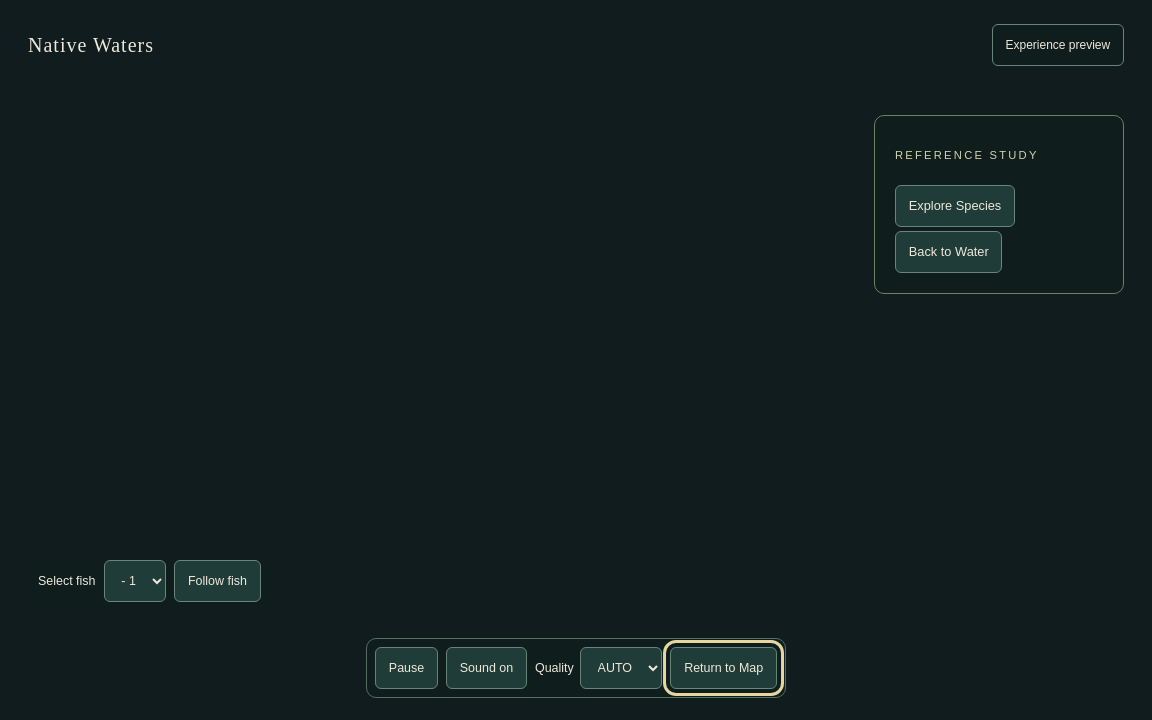
ExperienceUI › returns to the preview control if graphics recovery leaves Enter disabled
This screenshot has width=1152, height=720.
Click the button "Return to Map" at (724, 668), box [670, 647, 777, 689]
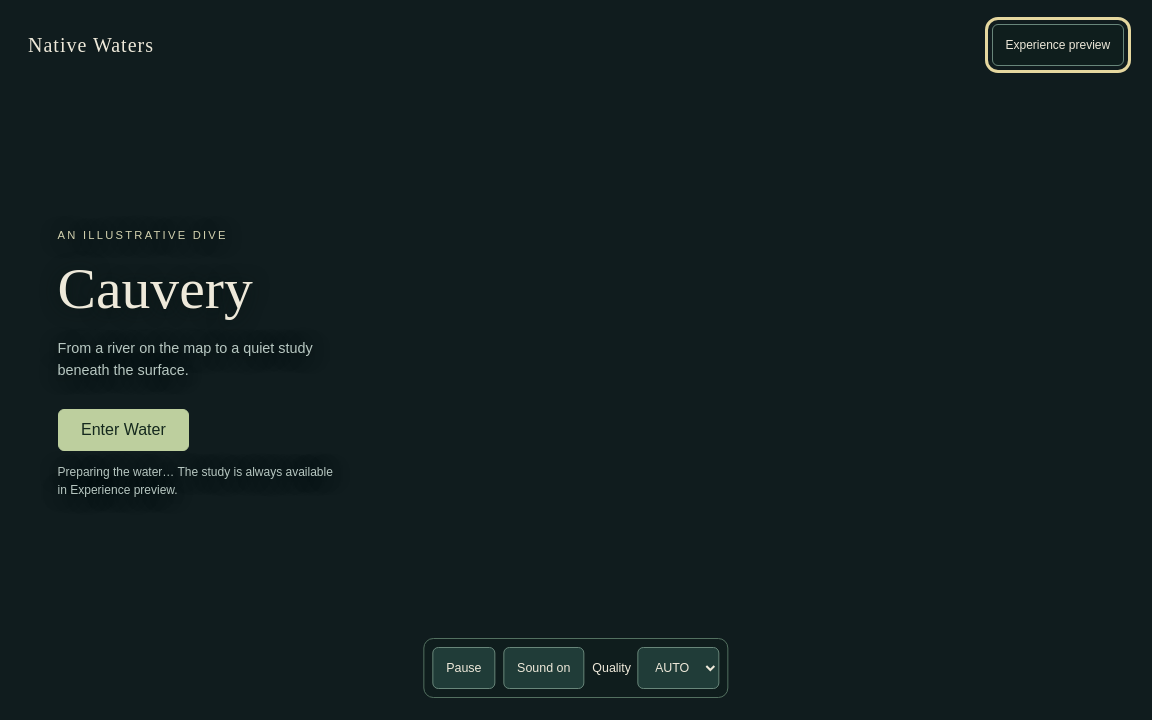
Result: the button "Enter Water" is disabled at [58, 409, 189, 451]
